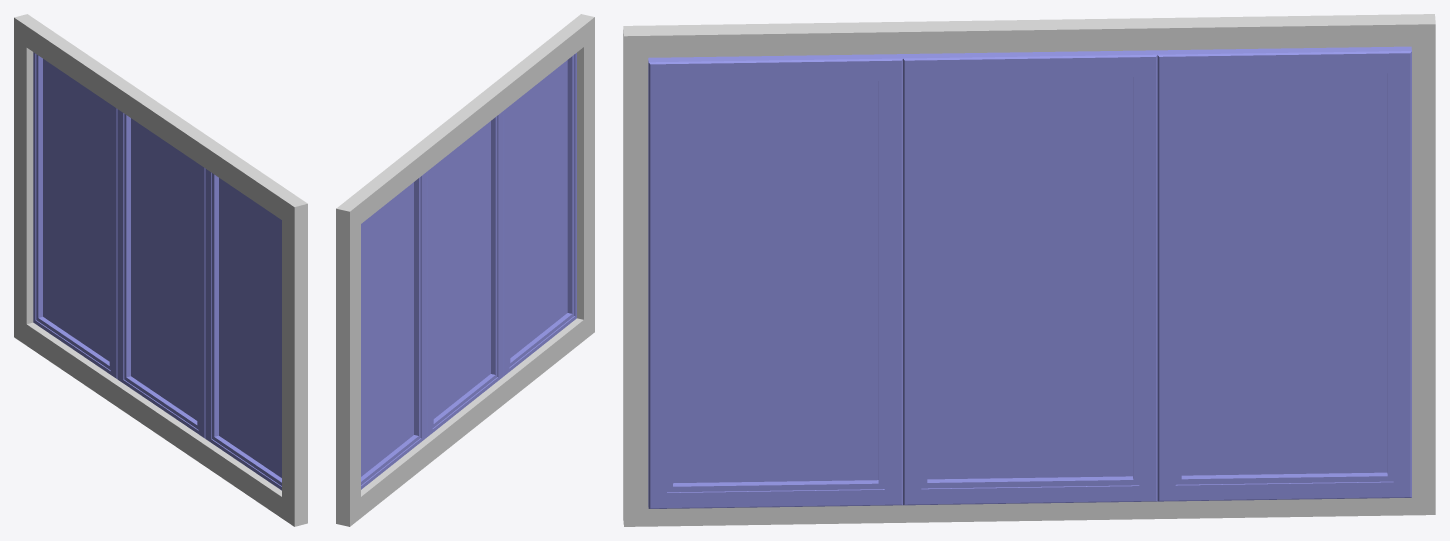
File: window313b.fbx
3 views of the same model, side by side, from view 1: azimuth 30°, elevation 25°; view 2: azimuth 150°, elevation 25°; view 3: azimuth 270°, elevation 25° (orthographic). The views are drawn at different scales.
Visible parts, largest first — view 1: Window.313b, Window Panel.017, Window Panel.016, Window Panel.018; view 2: Window.313b, Window Panel.017, Window Panel.018, Window Panel.016; view 3: Window Panel.018, Window Panel.017, Window Panel.016, Window.313b.
Part boxes in pixels (left/top/right/bottom): Window.313b: left=14, top=14, right=307, bottom=526; Window Panel.017: left=117, top=109, right=205, bottom=438; Window Panel.016: left=33, top=52, right=117, bottom=379; Window Panel.018: left=205, top=169, right=281, bottom=490; Window.313b: left=336, top=14, right=594, bottom=526; Window Panel.017: left=426, top=111, right=503, bottom=437; Window Panel.018: left=503, top=53, right=576, bottom=376; Window Panel.016: left=361, top=172, right=426, bottom=489; Window Panel.018: left=648, top=54, right=902, bottom=508; Window Panel.017: left=902, top=50, right=1157, bottom=505; Window Panel.016: left=1157, top=46, right=1411, bottom=501; Window.313b: left=623, top=14, right=1435, bottom=526.
Bounding box in the file's own units: 15.79 × 134 × 201.
